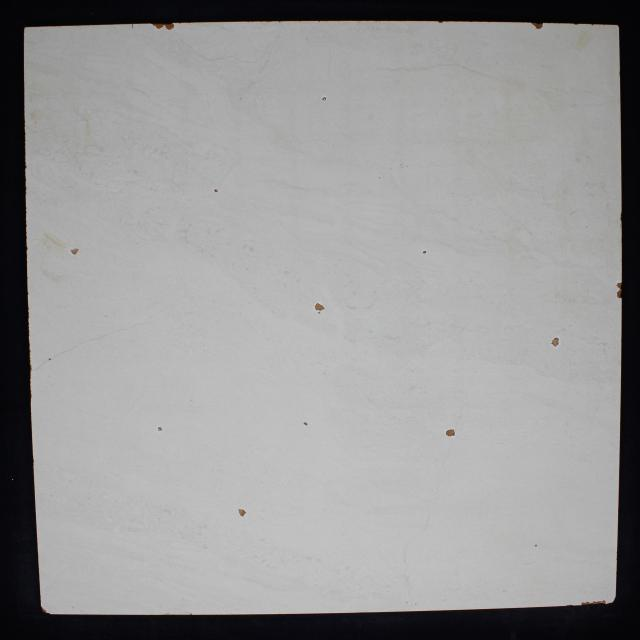edge-chipping: (530, 22, 544, 30), (150, 23, 164, 29), (40, 606, 50, 614), (164, 23, 174, 30), (581, 601, 595, 606), (608, 596, 616, 604), (617, 289, 622, 299), (616, 282, 622, 289), (597, 600, 606, 604), (573, 23, 579, 25), (566, 605, 573, 606)
hole: (315, 302, 325, 312), (551, 337, 559, 347), (446, 429, 455, 437), (238, 509, 247, 517), (71, 248, 79, 255), (303, 422, 308, 426), (422, 250, 427, 254), (214, 188, 218, 192), (158, 427, 162, 431), (322, 97, 326, 101), (534, 544, 538, 547)
line: (80, 329, 126, 344), (129, 317, 160, 328), (30, 358, 53, 372), (54, 345, 78, 357), (132, 24, 133, 29)
